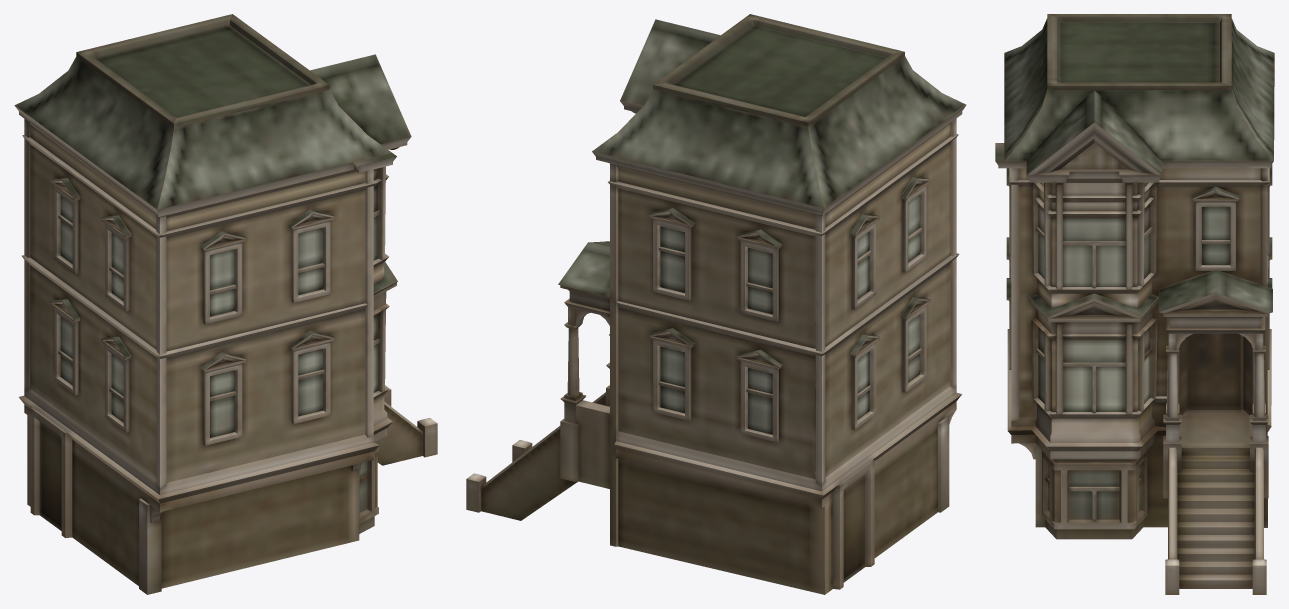
File: house1.FBX
3 views of the same model, side by side, from view 1: azimuth 30°, elevation 25°; view 2: azimuth 150°, elevation 25°; view 3: azimuth 270°, elevation 25° (orthographic). The views are drawn at different scales.
Parts seen in each view (by area): view 1: polySurface2129; view 2: polySurface2129; view 3: polySurface2129.
Part boxes in pixels (x1,y1,x2,y2): polySurface2129: (14,14,437,594); polySurface2129: (466,14,966,594); polySurface2129: (995,14,1274,594).
Bounding box in the file's own units: 3.32 × 3.96 × 2.33.
